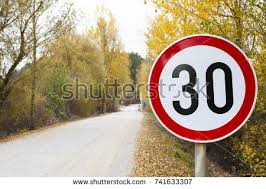Speed_limit_30km: (148, 32, 258, 144)
